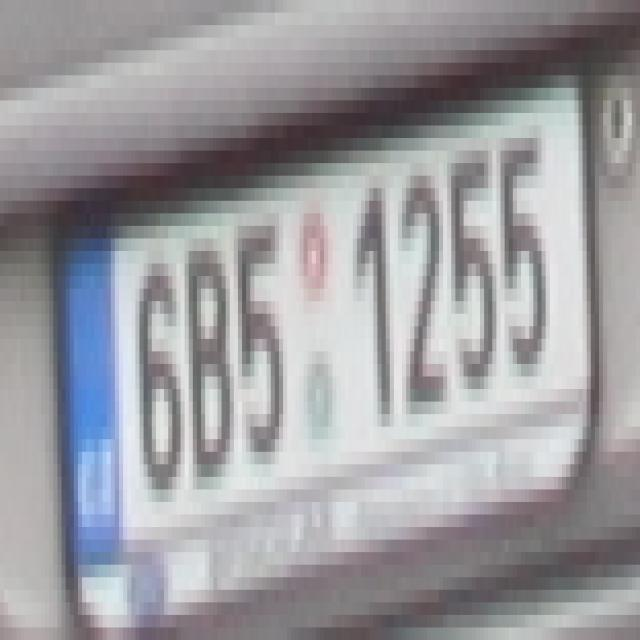1: (348, 150, 389, 427)
2: (394, 150, 443, 402)
5: (443, 113, 492, 414), (234, 201, 283, 477), (500, 126, 550, 377)
6: (132, 238, 180, 477)
B: (184, 226, 230, 477)
